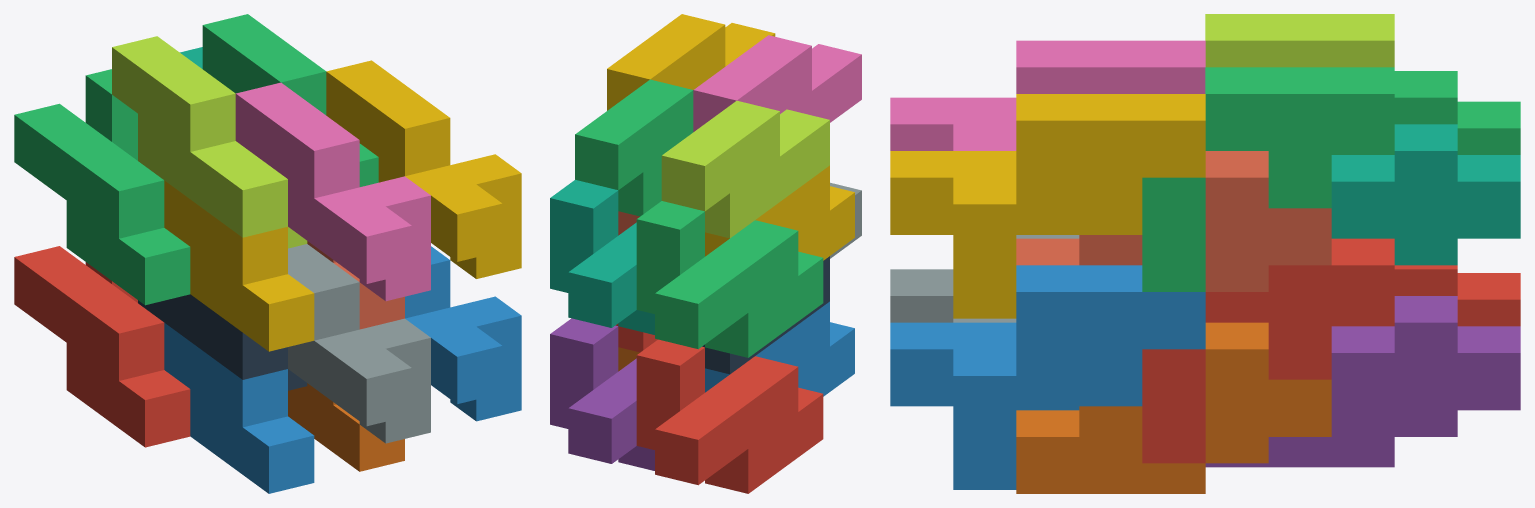
The model's file is tiling.obj.
The picture shows the model from 3 angles, left to right: view 1: azimuth 30°, elevation 25°; view 2: azimuth 150°, elevation 25°; view 3: azimuth 270°, elevation 25°; orthographic projection. The views are drawn at different scales.
Parts seen in each view (by area): view 1: copy_2_domain_4, copy_1_domain_3, copy_2_domain_8, copy_1_domain_1, copy_2_domain_3, copy_2_domain_2, copy_1_domain_4, copy_1_domain_2, copy_2_domain_6, copy_2_domain_7, copy_2_domain_1, copy_1_domain_6 (+1 smaller); view 2: copy_1_domain_3, copy_1_domain_1, copy_2_domain_3, copy_1_domain_7, copy_1_domain_5, copy_2_domain_7, copy_2_domain_4, copy_2_domain_8, copy_1_domain_2, copy_1_domain_4, copy_2_domain_1, copy_2_domain_5 (+1 smaller); view 3: copy_2_domain_8, copy_2_domain_6, copy_2_domain_7, copy_1_domain_5, copy_1_domain_6, copy_2_domain_5, copy_1_domain_7, copy_2_domain_4, copy_1_domain_8, copy_2_domain_3, copy_1_domain_3, copy_1_domain_1 (+1 smaller).
Boxes of the visible parts, x1,y1,x2,y2 form: copy_2_domain_4: (235, 82, 430, 301); copy_1_domain_3: (14, 69, 190, 305); copy_2_domain_8: (326, 60, 521, 278); copy_1_domain_1: (14, 246, 190, 447); copy_2_domain_3: (112, 36, 307, 248); copy_2_domain_2: (288, 244, 430, 443); copy_1_domain_4: (164, 180, 314, 351); copy_1_domain_2: (164, 323, 314, 493); copy_2_domain_6: (405, 246, 521, 421); copy_2_domain_7: (202, 14, 378, 186); copy_2_domain_1: (138, 294, 307, 390); copy_1_domain_6: (288, 383, 404, 471); copy_1_domain_3: (636, 201, 823, 357); copy_1_domain_1: (636, 339, 823, 493); copy_2_domain_3: (661, 100, 829, 238); copy_1_domain_7: (550, 179, 654, 334); copy_1_domain_5: (550, 318, 654, 470); copy_2_domain_7: (575, 79, 693, 216); copy_2_domain_4: (693, 35, 861, 131); copy_2_domain_8: (607, 14, 775, 110); copy_1_domain_2: (705, 301, 854, 396); copy_1_domain_4: (705, 165, 854, 260); copy_2_domain_1: (702, 256, 829, 374); copy_2_domain_5: (615, 323, 657, 352); copy_2_domain_8: (890, 94, 1205, 318); copy_2_domain_6: (890, 265, 1205, 489); copy_2_domain_7: (1142, 67, 1394, 291); copy_1_domain_5: (1205, 296, 1520, 467); copy_1_domain_6: (1016, 322, 1331, 493); copy_2_domain_5: (1142, 238, 1394, 463); copy_1_domain_7: (1331, 124, 1520, 265); copy_2_domain_4: (890, 40, 1205, 150); copy_1_domain_8: (1016, 151, 1331, 291); copy_2_domain_3: (1205, 14, 1394, 67); copy_1_domain_3: (1331, 71, 1520, 154); copy_1_domain_1: (1331, 265, 1520, 326).
Size of the model in its own units: 6 by 7 by 10.
